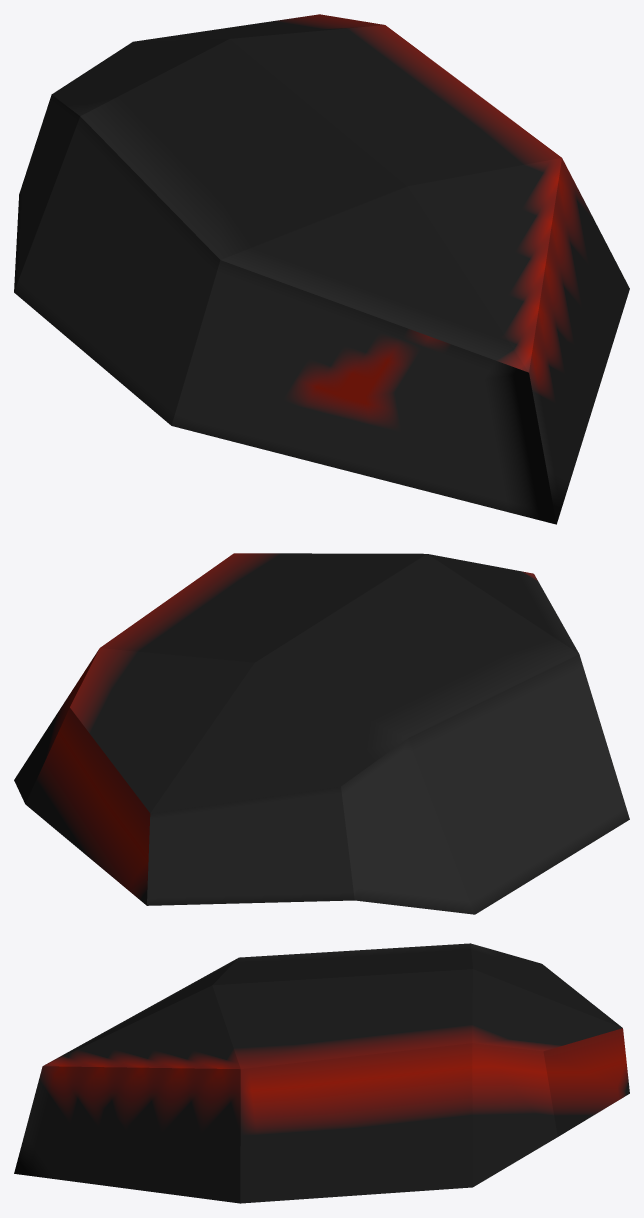
The model's file is TheSignalisHat.fbx.
3 renders of one model, top to bottom at view 1: azimuth 30°, elevation 25°; view 2: azimuth 150°, elevation 25°; view 3: azimuth 270°, elevation 25°, orthographic. The views are drawn at different scales.
Parts seen in each view (by area): view 1: FemaleMilitaryHat_001; view 2: FemaleMilitaryHat_001; view 3: FemaleMilitaryHat_001.
Part boxes in pixels (x1,y1,x2,y2): FemaleMilitaryHat_001: (14,14,629,524); FemaleMilitaryHat_001: (14,553,629,914); FemaleMilitaryHat_001: (14,943,629,1203).
Bounding box in the file's own units: 0.1117 × 0.0613 × 0.1731.
Materials: 1 (1 with a texture image).
